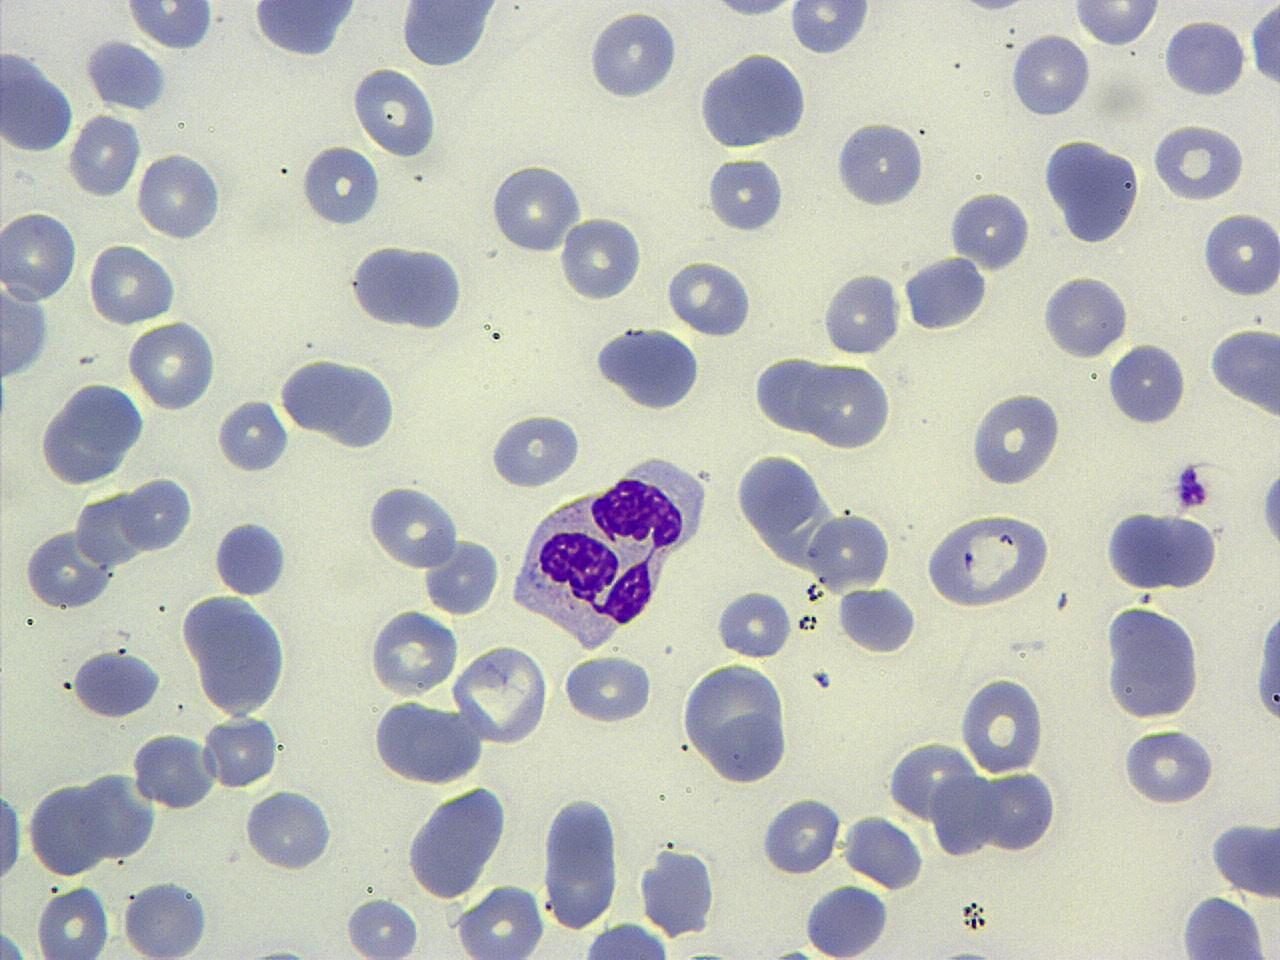Platelets: (82, 37, 168, 111), (212, 518, 289, 596), (214, 396, 290, 474), (786, 2, 872, 56), (1247, 1, 1280, 91), (1257, 457, 1280, 556), (233, 938, 330, 960), (1171, 461, 1213, 510), (772, 944, 812, 960), (811, 670, 833, 690)
RBC: (678, 658, 790, 782), (922, 508, 1051, 614), (538, 792, 624, 931), (450, 638, 552, 748), (368, 695, 487, 787), (965, 387, 1068, 490), (486, 160, 584, 255), (958, 672, 1048, 774), (366, 480, 462, 574), (125, 316, 218, 412), (831, 118, 927, 211), (365, 606, 462, 698), (800, 358, 895, 450), (350, 64, 439, 160), (1039, 270, 1133, 360), (133, 151, 224, 243), (241, 786, 337, 872), (0, 49, 78, 155), (26, 776, 107, 876), (1149, 121, 1247, 203), (88, 240, 180, 326), (1118, 725, 1214, 806), (485, 411, 584, 490), (820, 264, 903, 358), (0, 208, 80, 305), (558, 212, 642, 304), (78, 764, 159, 858), (117, 877, 212, 958), (946, 187, 1033, 272), (664, 256, 755, 338), (1205, 323, 1280, 422), (560, 650, 656, 727), (128, 730, 218, 812), (1009, 30, 1091, 120), (1104, 342, 1188, 428), (1200, 208, 1278, 299), (757, 794, 844, 875), (454, 882, 544, 960), (806, 512, 892, 594), (299, 141, 380, 227), (703, 153, 786, 236), (841, 812, 926, 890), (67, 111, 142, 200), (422, 533, 501, 618), (1102, 509, 1180, 593), (984, 768, 1058, 856), (927, 769, 999, 860), (210, 518, 289, 598), (751, 354, 829, 435), (835, 583, 919, 656), (33, 882, 112, 960), (214, 396, 290, 475), (120, 474, 194, 556), (202, 712, 277, 789), (714, 586, 792, 659), (1151, 508, 1219, 590), (343, 892, 420, 960), (786, 0, 872, 57), (124, 1, 214, 52), (1071, 0, 1161, 48), (581, 920, 674, 960), (1, 779, 25, 893), (703, 0, 802, 22)
WBC: (0, 0, 589, 285), (502, 450, 710, 657), (679, 658, 795, 786), (180, 590, 295, 718), (923, 506, 1053, 613), (403, 781, 511, 902), (1101, 600, 1205, 722), (276, 352, 404, 450), (695, 49, 813, 154), (540, 790, 627, 932), (36, 378, 148, 486), (1040, 134, 1146, 247), (347, 240, 470, 334), (964, 385, 1068, 490), (370, 695, 487, 787), (592, 322, 703, 414), (349, 61, 446, 159), (584, 6, 682, 104), (831, 118, 930, 212), (801, 355, 897, 450), (20, 522, 120, 612), (242, 784, 338, 874), (25, 776, 109, 878), (76, 766, 159, 864), (488, 410, 588, 491), (819, 264, 905, 358), (637, 843, 719, 941), (396, 0, 512, 68), (454, 878, 548, 960), (121, 875, 210, 960), (1206, 319, 1280, 421), (758, 793, 844, 879), (1160, 15, 1246, 100), (132, 726, 221, 807), (1174, 890, 1276, 960), (902, 253, 990, 334), (70, 646, 165, 720), (703, 154, 788, 237), (1134, 508, 1218, 591), (250, 1, 366, 61), (706, 705, 788, 788), (802, 881, 890, 959), (83, 37, 172, 112), (752, 351, 828, 437), (1103, 506, 1179, 592), (212, 515, 288, 599), (836, 582, 919, 658), (1207, 814, 1279, 902), (1, 272, 55, 386), (785, 1, 877, 57), (122, 1, 215, 52), (1252, 578, 1280, 740), (578, 918, 676, 960), (1248, 1, 1280, 96), (1257, 444, 1279, 564)
